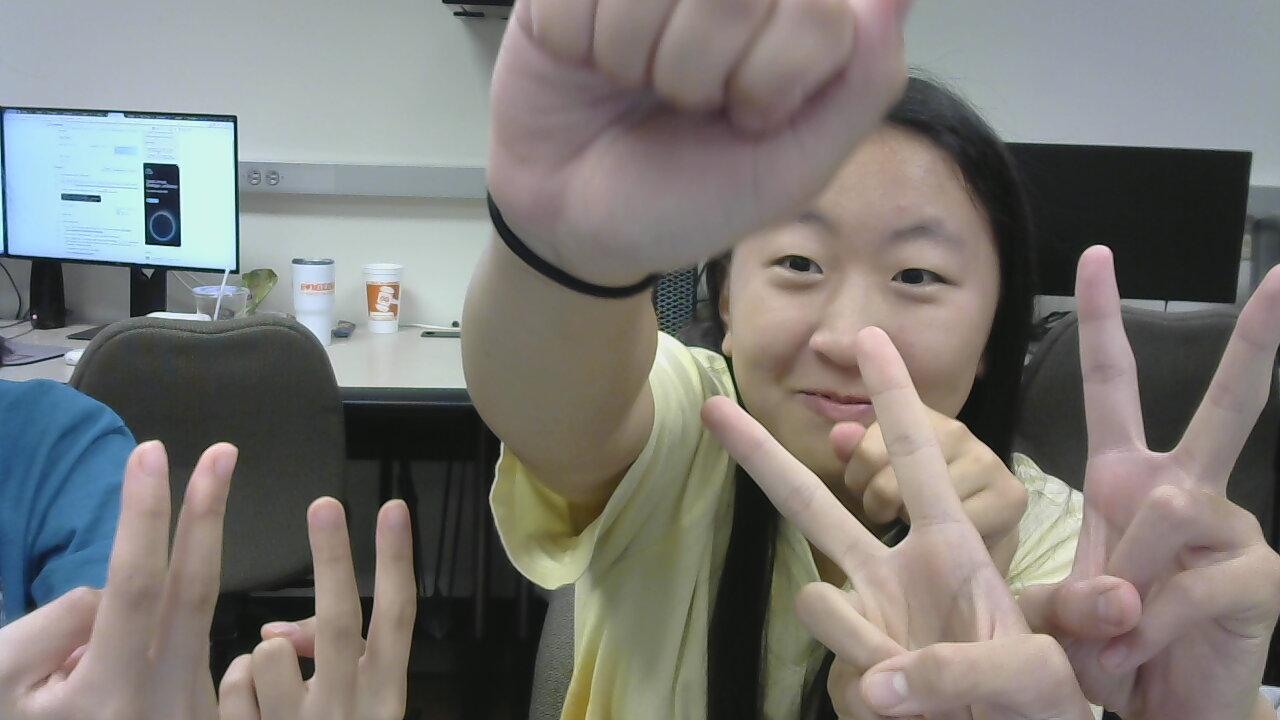fist: (479, 0, 921, 310), (814, 398, 1030, 630)
peace: (681, 320, 1077, 720), (1052, 236, 1280, 719), (0, 410, 249, 720), (200, 508, 425, 720)
